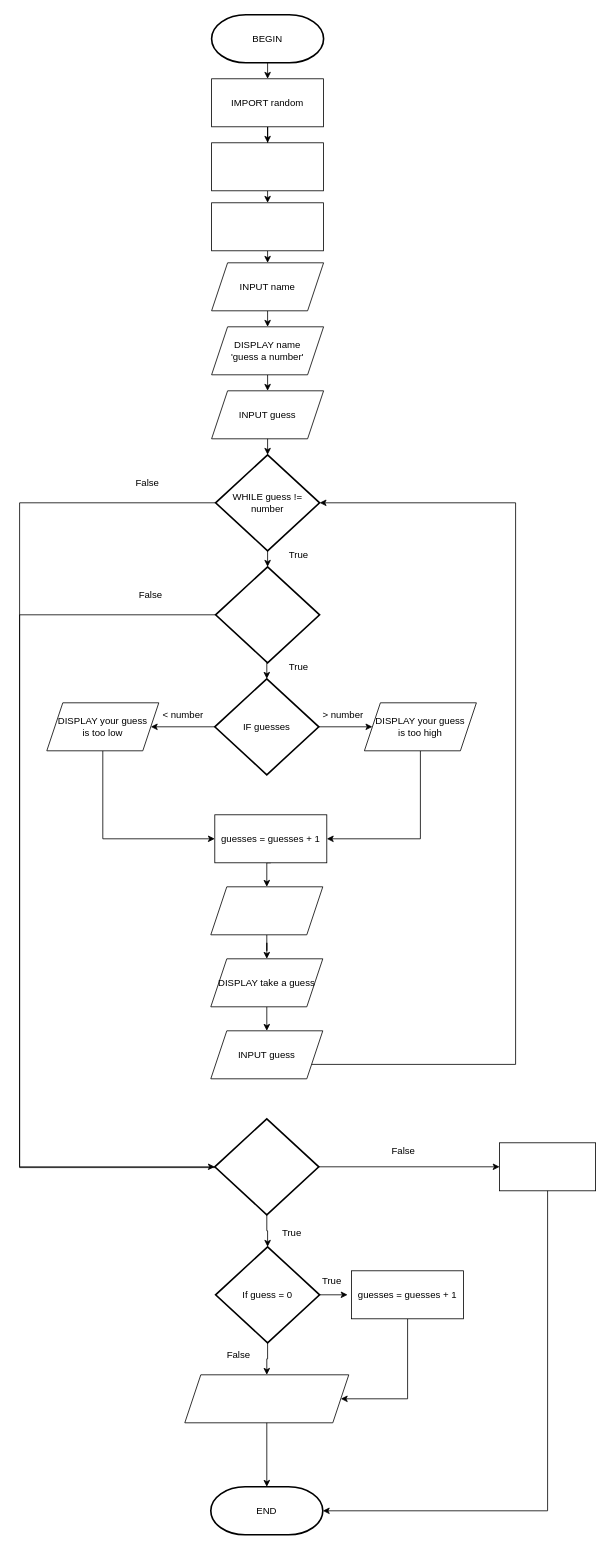
The diagram is 610 pixels wide and 1549 high, and some of its shapes have lost their labels. The shapes that lost their labels are listed below. From the top down, each one's centre as x and y in pixels, then its label:
point (267, 166): guesses = 0
point (267, 226): number = RANDOM number between 1 to 4
point (267, 614): IF guesses < 6
point (266, 910): DISPLAY guesses
point (266, 1166): If guess = number
point (547, 1166): DISPLAY "The number was", number
point (266, 1398): DISPLAY "Good Job! It only took", guesses, "guesses!"
